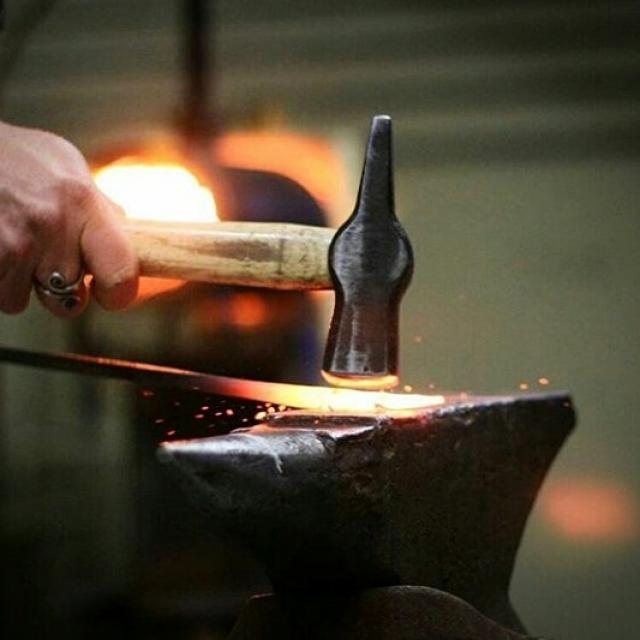hammer: (60, 100, 419, 388)
